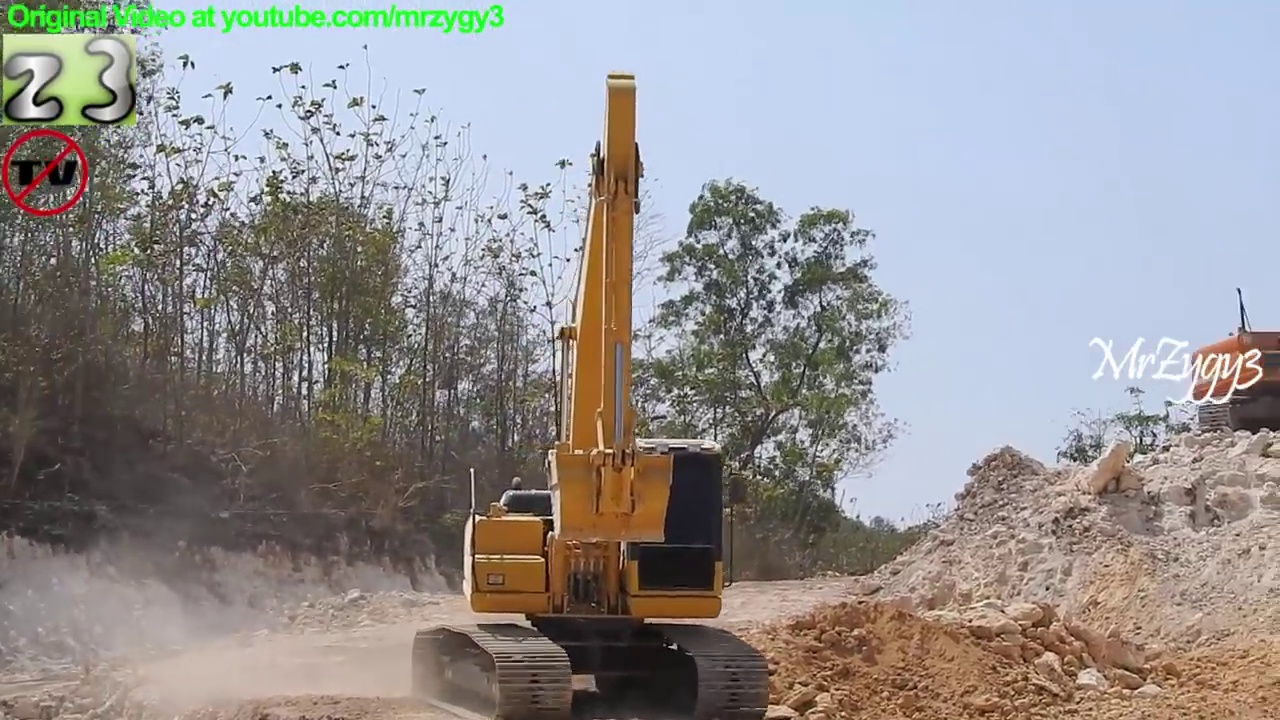excavator: (405, 65, 782, 720), (1182, 282, 1280, 444)
